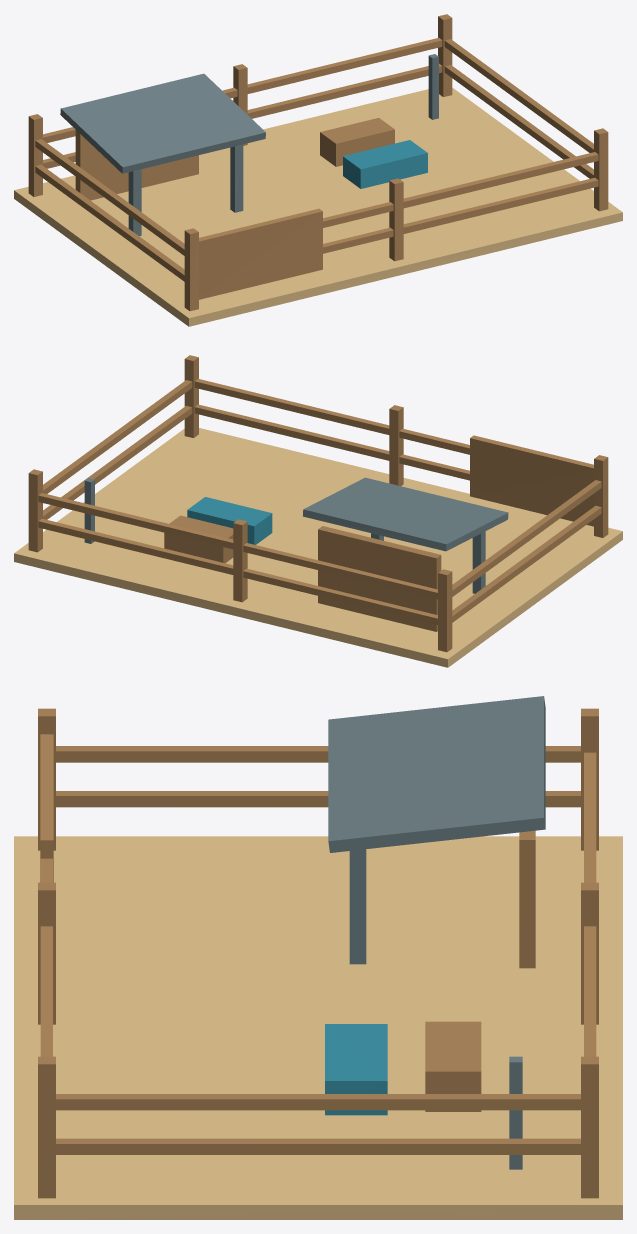
The model's file is horse-paddock.source.glb.
3 views of the same model, one above another, from view 1: azimuth 30°, elevation 25°; view 2: azimuth 150°, elevation 25°; view 3: azimuth 270°, elevation 25° (orthographic). The views are drawn at different scales.
Visible parts, largest first — view 1: horse-paddock-open-packed-earth-paddock-mesh, horse-paddock-small-shallow-shelter-roof-mesh, horse-paddock-long-perimeter-rail-mesh (×4), horse-paddock-broad-timber-gate-frame-mesh, horse-paddock-side-perimeter-rail-mesh (×4), horse-paddock-strong-timber-rail-post-mesh (×6), horse-paddock-shade-shelter-rear-wall-mesh, horse-paddock-blue-gray-water-trough-mesh, horse-paddock-compact-feed-trough-mesh, horse-paddock-shade-shelter-post-mesh (×2), horse-paddock-service-marker-post-mesh; view 2: horse-paddock-open-packed-earth-paddock-mesh, horse-paddock-long-perimeter-rail-mesh (×4), horse-paddock-small-shallow-shelter-roof-mesh, horse-paddock-side-perimeter-rail-mesh (×4), horse-paddock-shade-shelter-rear-wall-mesh, horse-paddock-broad-timber-gate-frame-mesh, horse-paddock-strong-timber-rail-post-mesh (×6), horse-paddock-blue-gray-water-trough-mesh, horse-paddock-compact-feed-trough-mesh, horse-paddock-shade-shelter-post-mesh, horse-paddock-service-marker-post-mesh; view 3: horse-paddock-open-packed-earth-paddock-mesh, horse-paddock-small-shallow-shelter-roof-mesh, horse-paddock-side-perimeter-rail-mesh (×4), horse-paddock-strong-timber-rail-post-mesh (×6), horse-paddock-long-perimeter-rail-mesh (×2), horse-paddock-blue-gray-water-trough-mesh, horse-paddock-compact-feed-trough-mesh, horse-paddock-shade-shelter-rear-wall-mesh, horse-paddock-shade-shelter-post-mesh, horse-paddock-broad-timber-gate-frame-mesh, horse-paddock-service-marker-post-mesh.
Boxes of the visible parts, box(x1,y1,x2,y2) form: horse-paddock-open-packed-earth-paddock-mesh: box(14, 88, 622, 326); horse-paddock-small-shallow-shelter-roof-mesh: box(60, 73, 265, 173); horse-paddock-long-perimeter-rail-mesh (×4): box(43, 37, 598, 253); horse-paddock-broad-timber-gate-frame-mesh: box(199, 208, 322, 299); horse-paddock-side-perimeter-rail-mesh (×4): box(35, 39, 593, 281); horse-paddock-strong-timber-rail-post-mesh (×6): box(28, 14, 608, 311); horse-paddock-shade-shelter-rear-wall-mesh: box(75, 130, 198, 200); horse-paddock-blue-gray-water-trough-mesh: box(343, 140, 427, 188); horse-paddock-compact-feed-trough-mesh: box(320, 118, 394, 166); horse-paddock-shade-shelter-post-mesh (×2): box(128, 144, 243, 236); horse-paddock-service-marker-post-mesh: box(428, 54, 438, 119); horse-paddock-open-packed-earth-paddock-mesh: box(14, 428, 622, 667); horse-paddock-long-perimeter-rail-mesh (×4): box(38, 378, 469, 624); horse-paddock-small-shallow-shelter-roof-mesh: box(302, 477, 508, 551); horse-paddock-side-perimeter-rail-mesh (×4): box(43, 380, 601, 622); horse-paddock-shade-shelter-rear-wall-mesh: box(318, 526, 441, 631); horse-paddock-broad-timber-gate-frame-mesh: box(470, 435, 593, 526); horse-paddock-strong-timber-rail-post-mesh (×6): box(28, 355, 608, 652); horse-paddock-blue-gray-water-trough-mesh: box(187, 497, 272, 544); horse-paddock-compact-feed-trough-mesh: box(164, 515, 233, 563); horse-paddock-shade-shelter-post-mesh: box(472, 531, 485, 593); horse-paddock-service-marker-post-mesh: box(84, 478, 94, 543); horse-paddock-open-packed-earth-paddock-mesh: box(14, 836, 622, 1219); horse-paddock-small-shallow-shelter-roof-mesh: box(328, 696, 545, 852); horse-paddock-side-perimeter-rail-mesh (×4): box(56, 746, 580, 1154); horse-paddock-strong-timber-rail-post-mesh (×6): box(38, 708, 598, 1198); horse-paddock-long-perimeter-rail-mesh (×2): box(40, 752, 596, 1056); horse-paddock-blue-gray-water-trough-mesh: box(325, 1024, 387, 1115); horse-paddock-compact-feed-trough-mesh: box(425, 1021, 481, 1111); horse-paddock-shade-shelter-rear-wall-mesh: box(519, 830, 535, 968); horse-paddock-shade-shelter-post-mesh: box(349, 849, 366, 964); horse-paddock-broad-timber-gate-frame-mesh: box(40, 734, 53, 882); horse-paddock-service-marker-post-mesh: box(509, 1056, 522, 1169).
Size of the model in its own units: 5.3 by 1.18 by 3.7.
